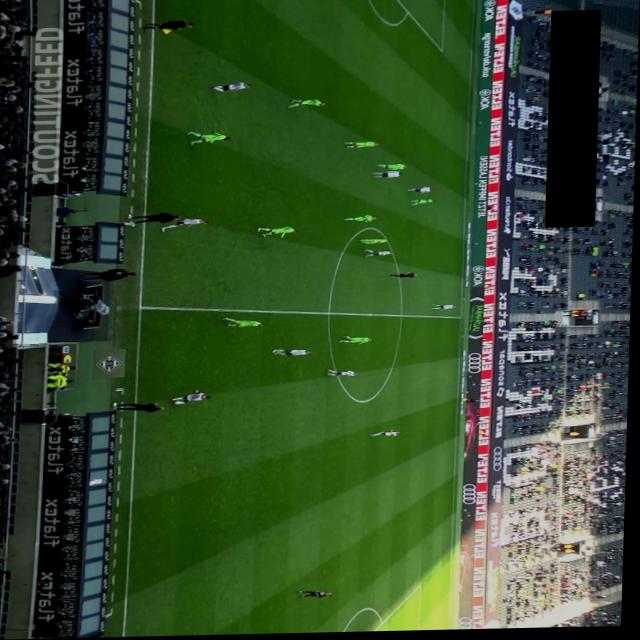player: (161, 218, 211, 233), (186, 132, 232, 147), (171, 391, 214, 406), (258, 227, 301, 239), (223, 318, 267, 329), (210, 83, 253, 94), (287, 99, 326, 110), (299, 590, 336, 600), (364, 250, 396, 261), (273, 350, 315, 358), (344, 142, 381, 151), (341, 338, 375, 347), (344, 216, 378, 225), (328, 371, 362, 379), (372, 172, 404, 180), (372, 431, 404, 439), (359, 240, 391, 247), (407, 188, 436, 195), (376, 166, 408, 172), (411, 201, 435, 208), (433, 306, 459, 312)
referee: (144, 21, 194, 35), (390, 274, 420, 280), (462, 400, 480, 405)
